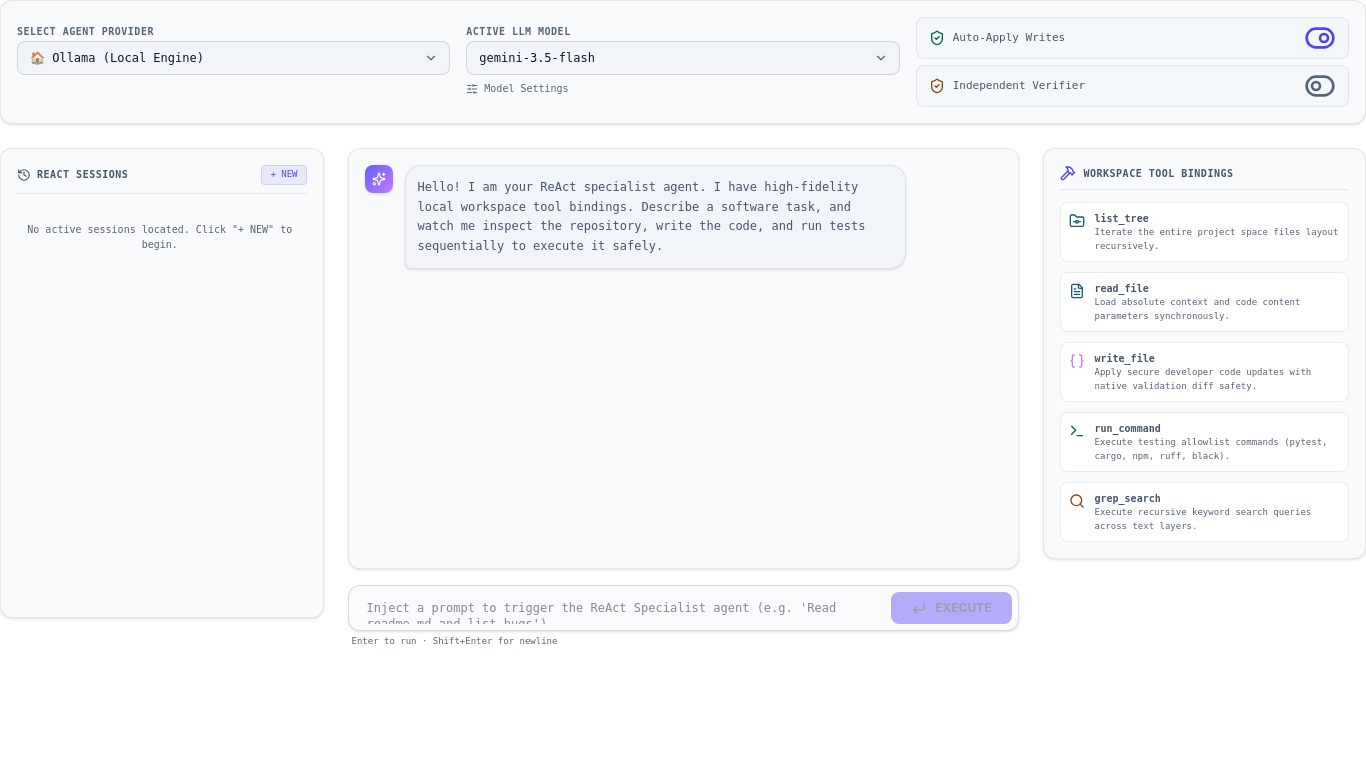
Test: ReactAgentTab — ReAct Specialist › Stop aborts an in-flight run
Replace the text in the text box with "do work" at (618, 608), box [354, 592, 881, 624]
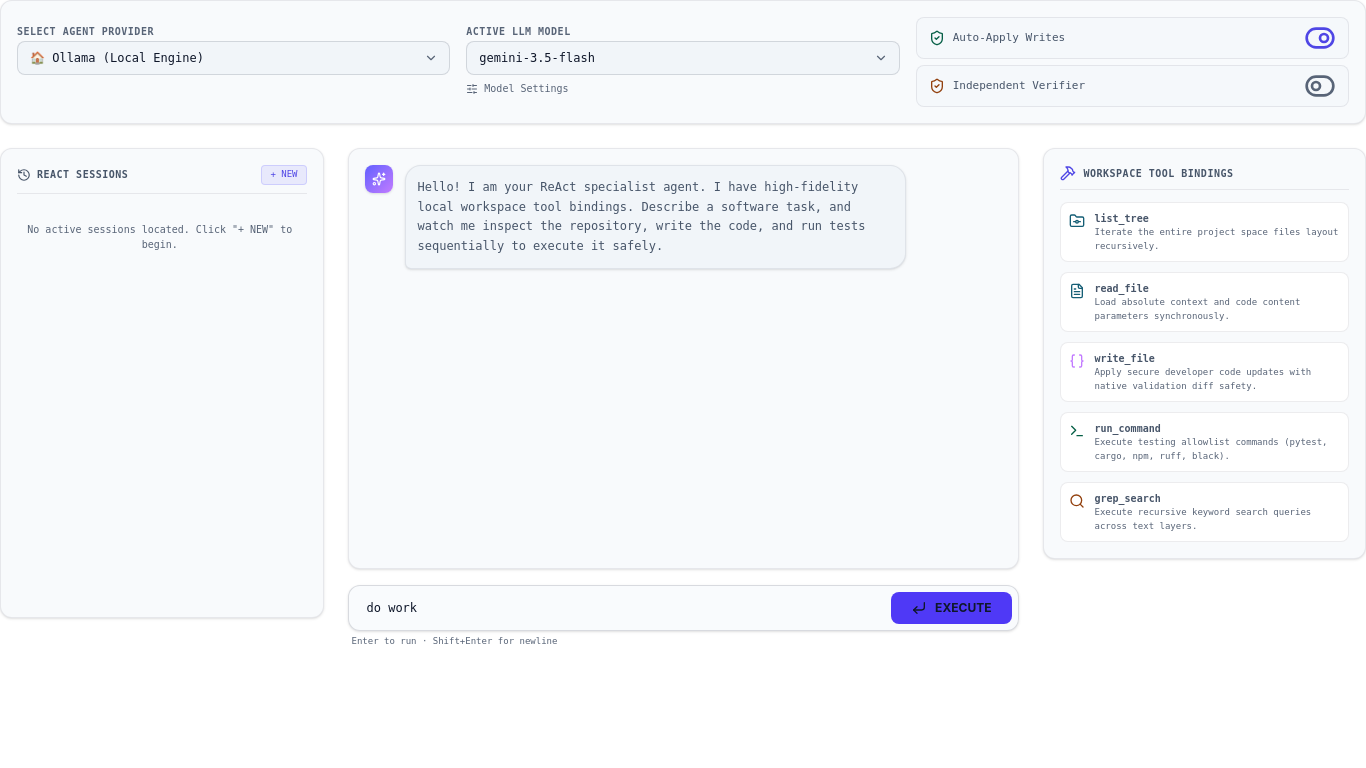
Press Enter in the text box, box [354, 592, 881, 624]
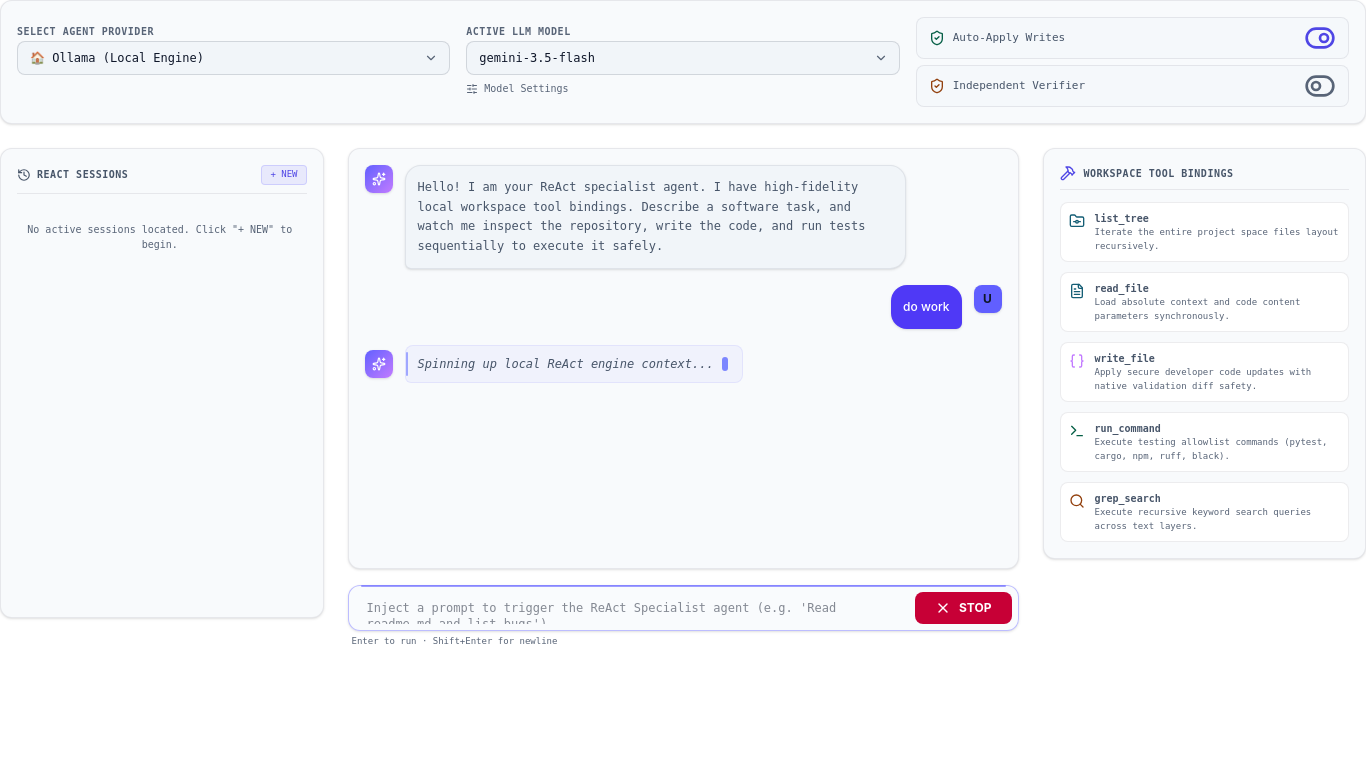
Click the button "STOP" at (963, 608), box [915, 592, 1012, 624]
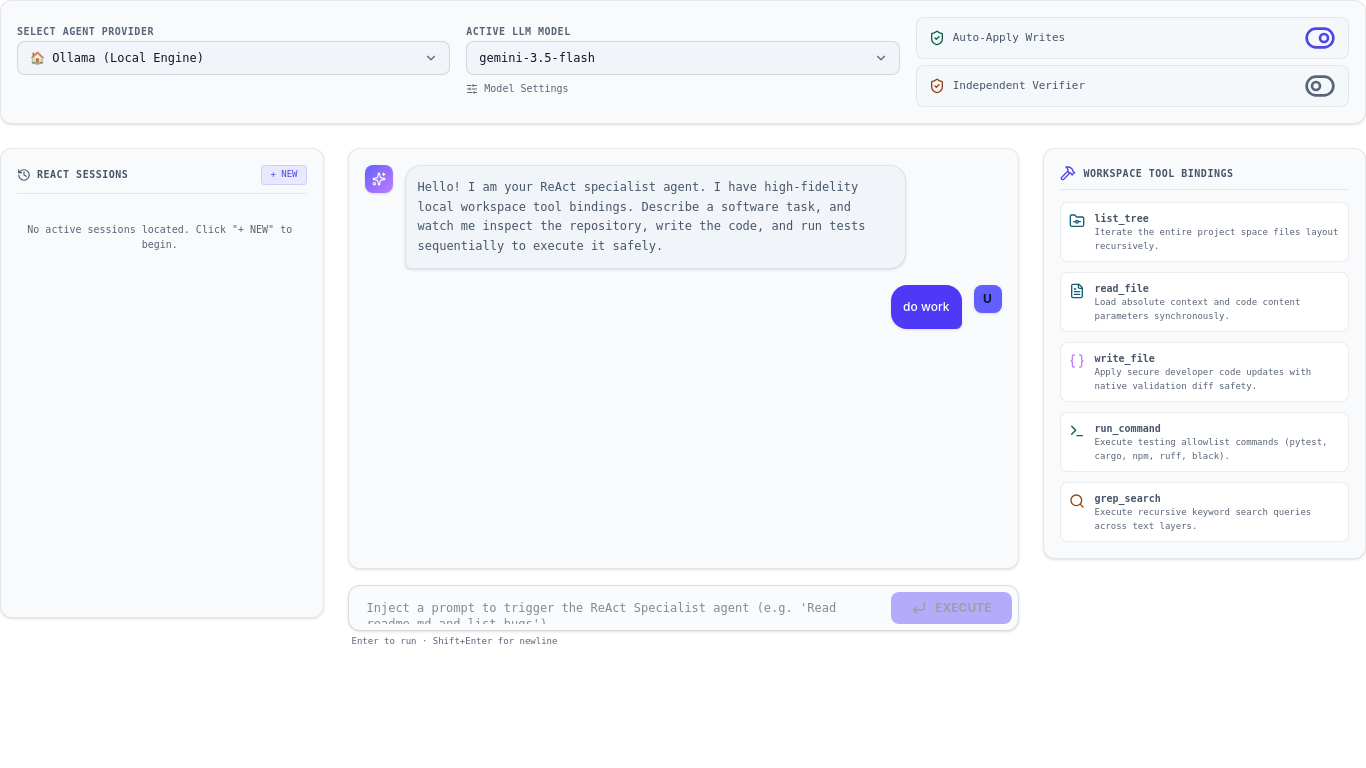
Expected: the button "EXECUTE" is shown, [891, 592, 1012, 624]
